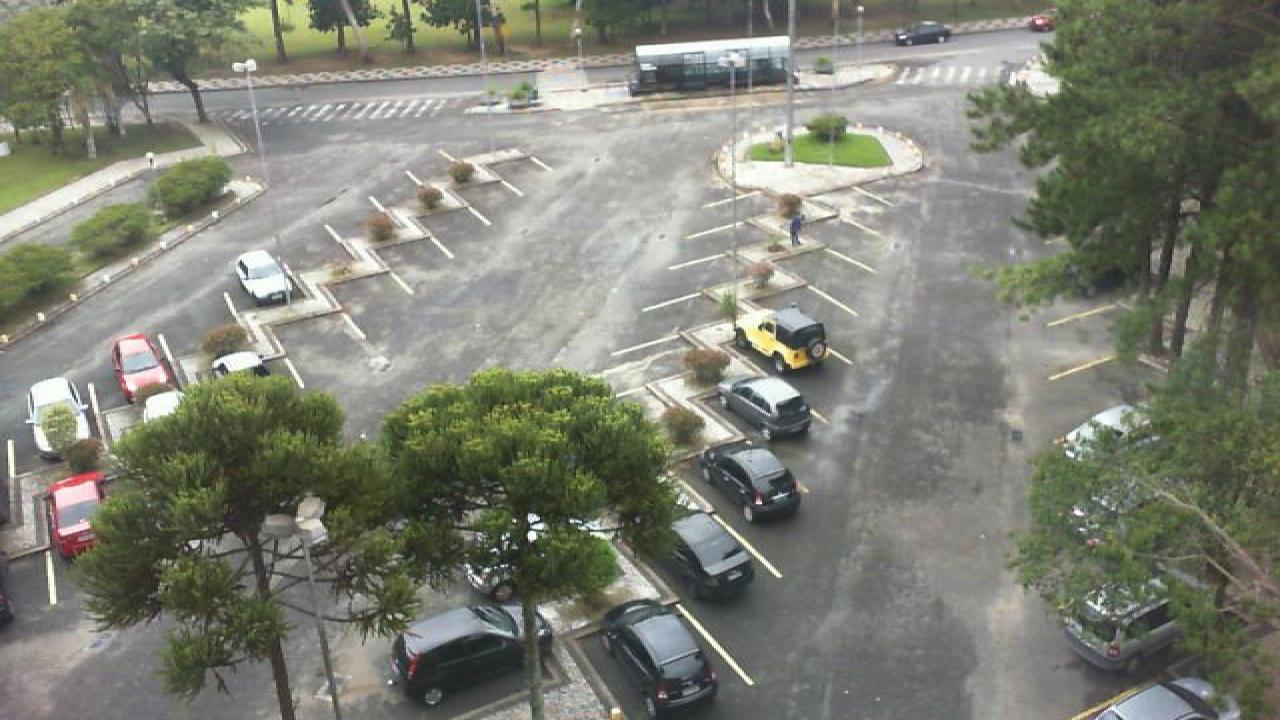Car: (386, 605, 528, 709), (602, 598, 720, 720), (1054, 575, 1182, 674), (642, 511, 758, 603), (698, 447, 802, 523), (1072, 675, 1222, 720), (732, 306, 830, 374), (718, 376, 814, 441), (44, 469, 110, 563), (26, 374, 88, 464), (110, 333, 180, 405), (234, 248, 298, 303), (208, 351, 272, 384), (136, 390, 182, 423)
